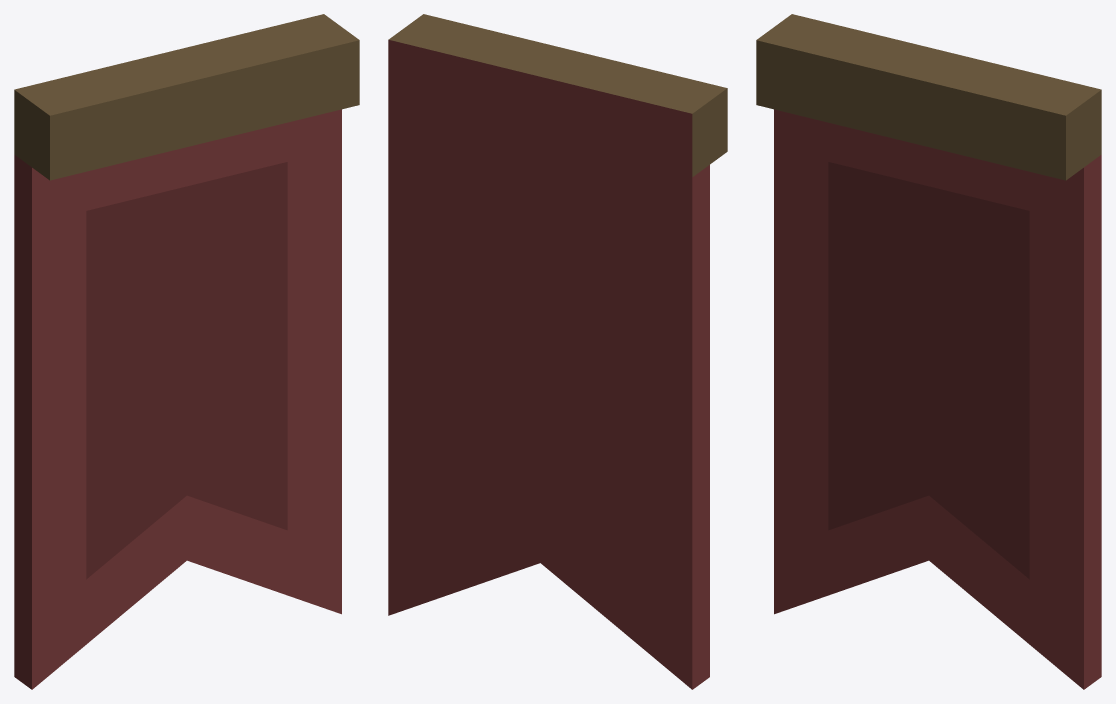
The model's file is Banner_Short_01.obj.
The picture shows the model from 3 angles, left to right: view 1: azimuth 30°, elevation 25°; view 2: azimuth 150°, elevation 25°; view 3: azimuth 330°, elevation 25°; orthographic projection.
Parts seen in each view (by area): view 1: Mesh1_Banner_Model; view 2: Mesh1_Banner_Model; view 3: Mesh1_Banner_Model.
Boxes of the visible parts, x1,y1,x2,y2 form: Mesh1_Banner_Model: [14, 14, 359, 689]; Mesh1_Banner_Model: [388, 14, 727, 689]; Mesh1_Banner_Model: [756, 14, 1101, 689].
Size of the model in its own units: 1 by 1.81 by 0.2.
